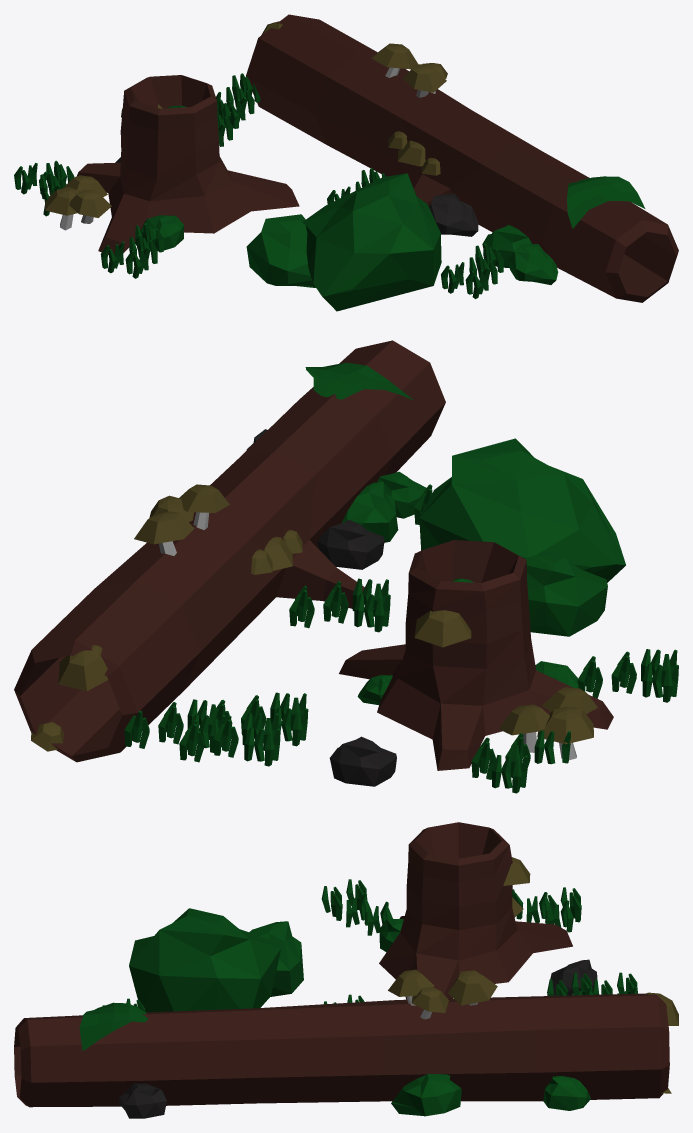
File: Fallen log.fbx
3 renders of one model, top to bottom at view 1: azimuth 30°, elevation 25°; view 2: azimuth 150°, elevation 25°; view 3: azimuth 270°, elevation 25°, orthographic. The views are drawn at different scales.
Visible parts, largest first — view 1: Cylinder002, Cylinder001, GeoSphere008, GeoSphere009, Plane001, GeoSphere010, GeoSphere002, GeoSphere001, GeoSphere005, Cylinder013, Cylinder021, Cylinder015 (+3 smaller); view 2: Cylinder002, Cylinder001, GeoSphere008, GeoSphere009, GeoSphere012, GeoSphere010, Plane001, GeoSphere001, Cylinder006, Cylinder008, Cylinder019, Cylinder015 (+7 smaller); view 3: Cylinder002, Cylinder001, GeoSphere008, GeoSphere003, GeoSphere009, Plane001, GeoSphere011, GeoSphere004, Cylinder015, GeoSphere012, Cylinder013, Cylinder017 (+2 smaller).
Part boxes in pixels (x1,y1,x2,y2): Cylinder002: (246, 14, 678, 302); Cylinder001: (77, 75, 299, 255); GeoSphere008: (303, 173, 441, 311); GeoSphere009: (246, 214, 315, 287); Plane001: (567, 176, 645, 228); GeoSphere010: (428, 193, 478, 236); GeoSphere002: (508, 244, 558, 284); GeoSphere001: (482, 224, 531, 267); GeoSphere005: (134, 215, 183, 250); Cylinder013: (403, 64, 446, 92); Cylinder021: (69, 189, 111, 217); Cylinder015: (371, 43, 417, 69); Cylinder002: (14, 340, 445, 762); Cylinder001: (339, 540, 613, 770); GeoSphere008: (419, 438, 625, 582); GeoSphere009: (525, 552, 607, 636); GeoSphere012: (329, 736, 396, 786); GeoSphere010: (317, 520, 384, 569); Plane001: (305, 362, 412, 399); GeoSphere001: (342, 481, 398, 542); Cylinder006: (58, 645, 108, 691); Cylinder008: (414, 610, 471, 647); Cylinder019: (537, 706, 593, 744); Cylinder015: (134, 511, 194, 544); Cylinder002: (14, 993, 669, 1107); Cylinder001: (379, 822, 572, 999); GeoSphere008: (129, 908, 281, 1012); GeoSphere003: (391, 1073, 461, 1116); GeoSphere009: (249, 921, 303, 996); Plane001: (79, 1002, 147, 1050); GeoSphere011: (118, 1083, 166, 1118); GeoSphere004: (543, 1076, 590, 1110); Cylinder015: (448, 970, 497, 1005); GeoSphere012: (547, 959, 597, 995); Cylinder013: (388, 969, 434, 996); Cylinder017: (411, 987, 448, 1012).
Size of the model in its own units: 83.62 by 25.82 by 106.
